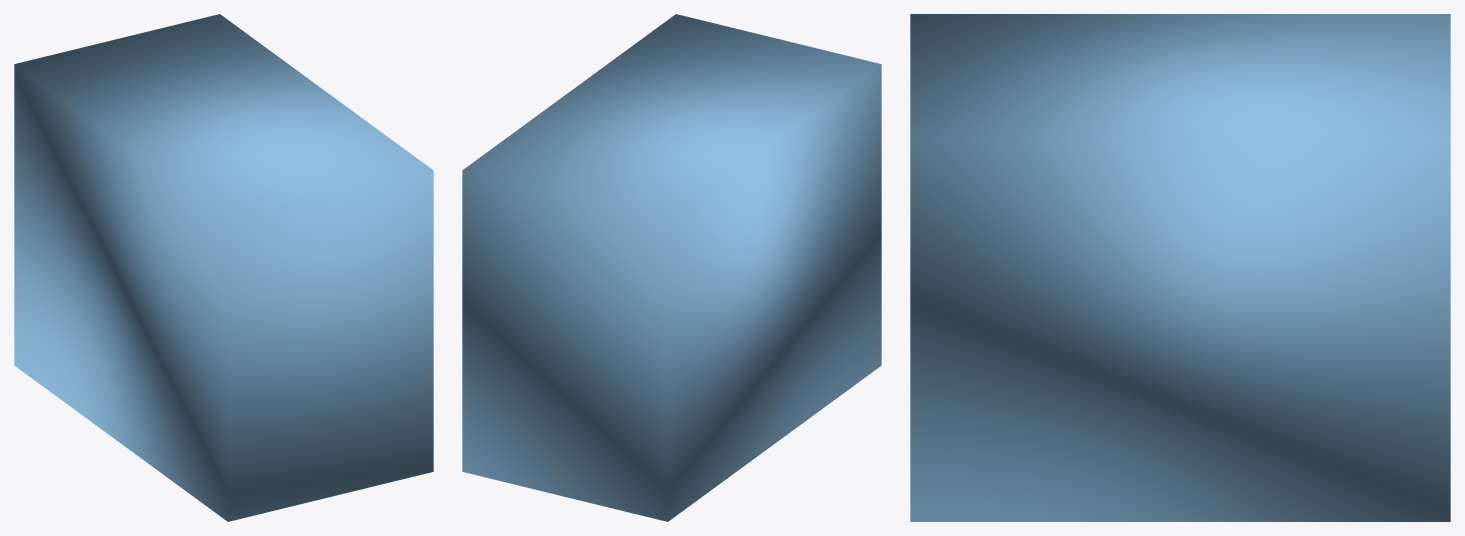
File: cube_scenekit.dae
The picture shows the model from 3 angles, left to right: view 1: azimuth 30°, elevation 25°; view 2: azimuth 150°, elevation 25°; view 3: azimuth 270°, elevation 25°; orthographic projection. The views are drawn at different scales.
Parts seen in each view (by area): view 1: litegen_matrix_cube; view 2: litegen_matrix_cube; view 3: litegen_matrix_cube.
Boxes of the visible parts, left/top/right/bottom form: litegen_matrix_cube: left=14, top=14, right=433, bottom=521; litegen_matrix_cube: left=462, top=14, right=881, bottom=521; litegen_matrix_cube: left=910, top=14, right=1450, bottom=521.
Bounding box in the file's own units: 5 × 7 × 9.
